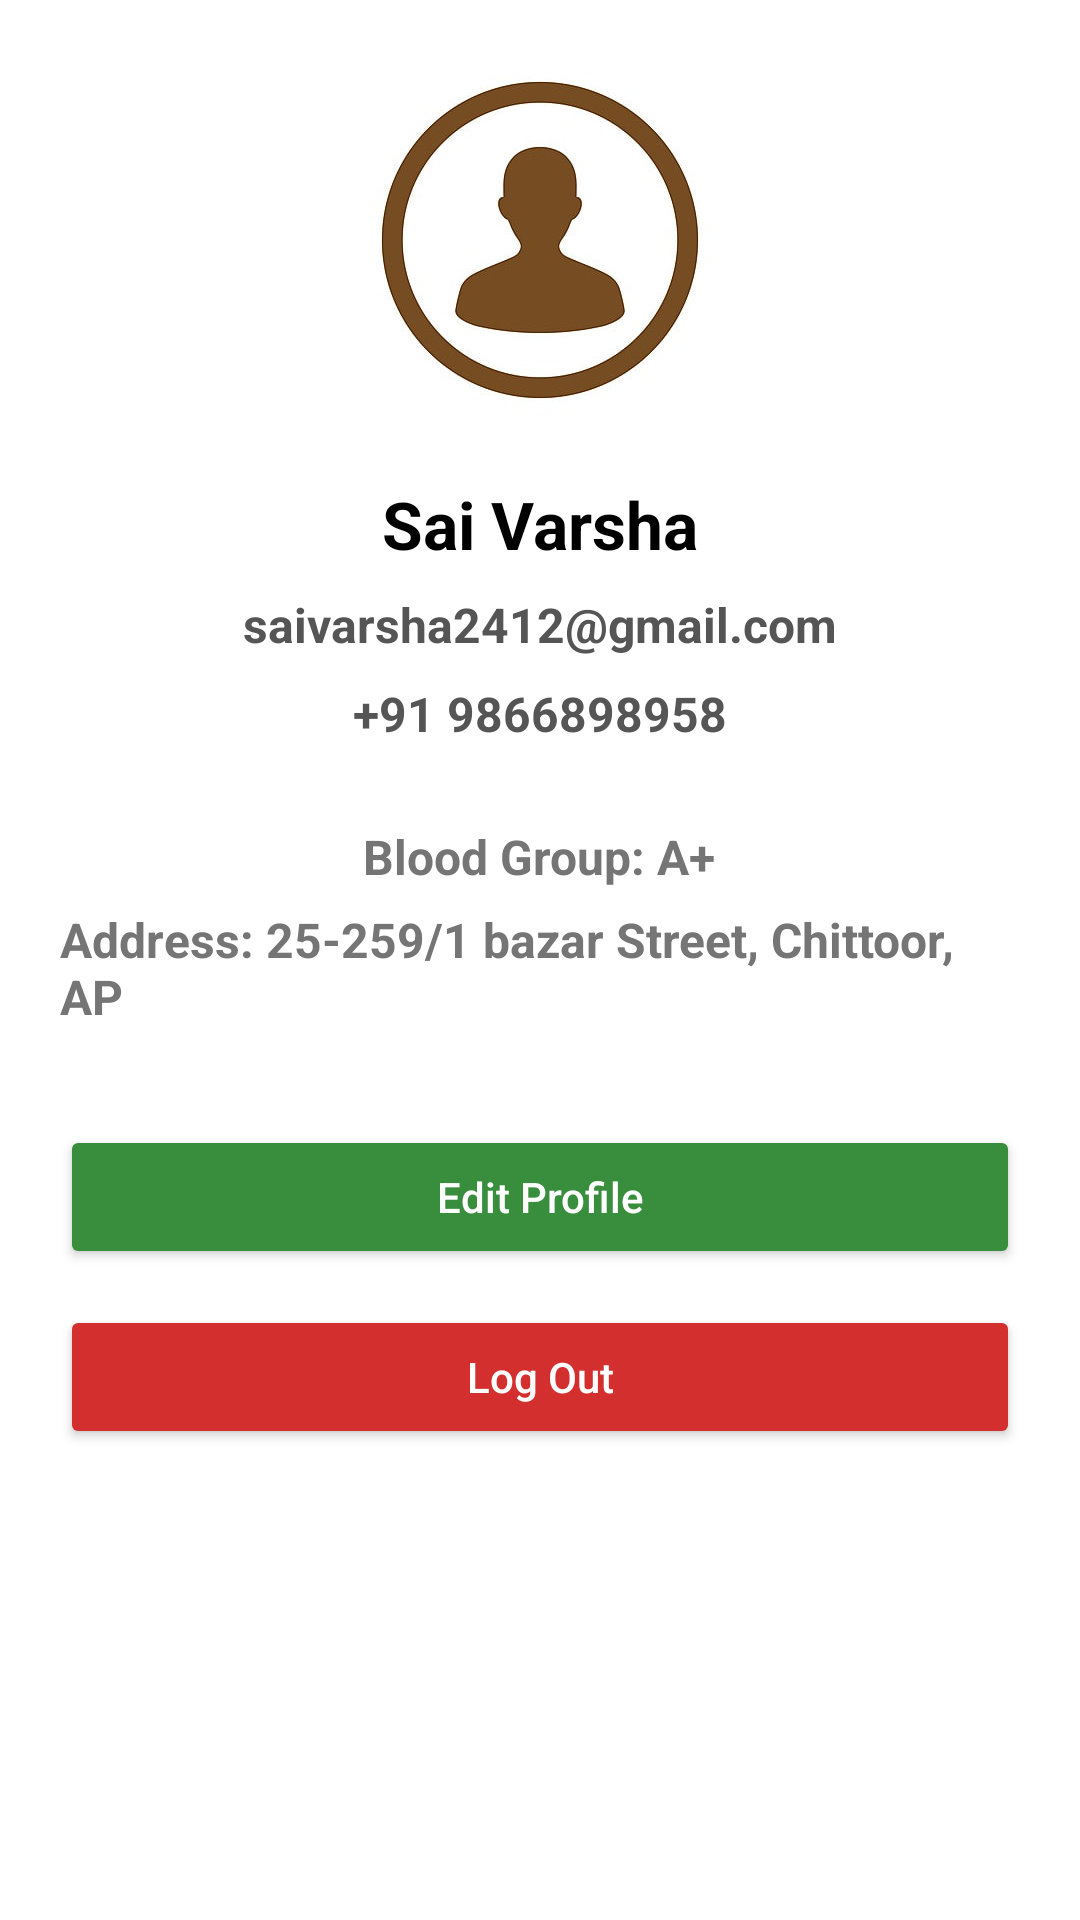

Icons on this 1080 x 1920 Android screen, each with its box as (x1, y1, x2, y2):
Profile Picture: (381, 81, 698, 398)
